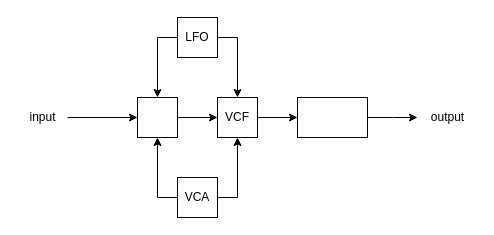
Some shapes in this 494 by 235 pixel diagram are drawn without their labels. Here are the shapes that lost their labels. From the top down, the centre of each, then its label:
At point (157, 117): "VCO".
At point (332, 117): "amplifier".
